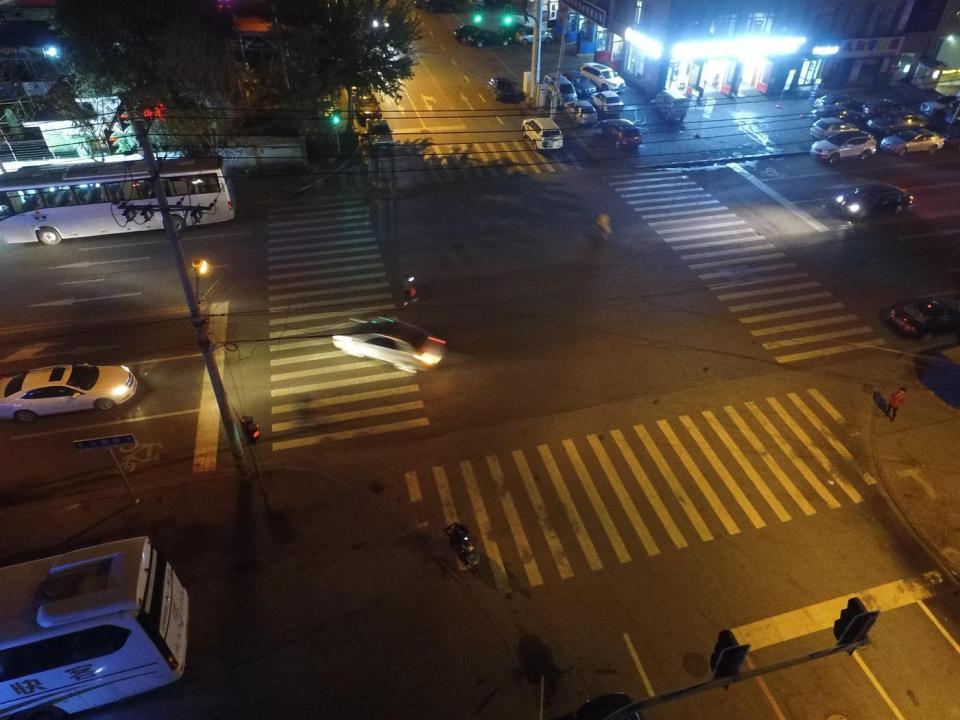bus: (0, 534, 191, 717), (0, 146, 235, 242)
car: (0, 364, 136, 419), (331, 315, 449, 373), (886, 302, 960, 345), (839, 184, 909, 218), (810, 133, 874, 162), (596, 118, 644, 149), (880, 130, 941, 154), (865, 109, 923, 132), (523, 120, 562, 152), (582, 62, 624, 90), (813, 119, 862, 142), (862, 98, 911, 119), (366, 116, 398, 148), (510, 26, 552, 50), (353, 92, 383, 124), (348, 66, 375, 100), (814, 93, 861, 112), (563, 70, 596, 97), (469, 28, 511, 48), (814, 106, 858, 125), (588, 91, 622, 115), (568, 100, 599, 125), (923, 96, 960, 116), (488, 78, 518, 100), (455, 26, 487, 42), (424, 1, 454, 13)
van: (544, 72, 576, 102)
